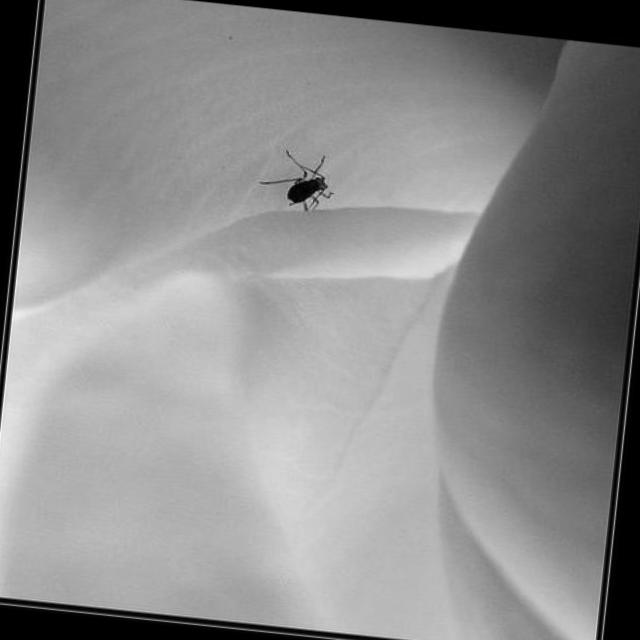Aphids: (249, 113, 342, 220)
